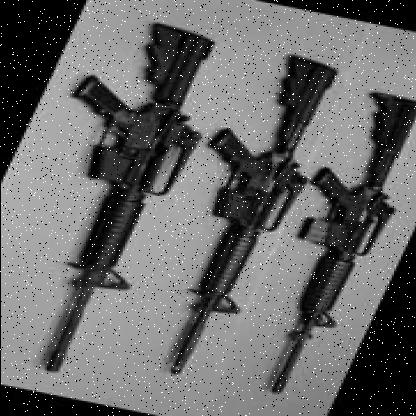rifle: (0, 15, 244, 398), (115, 45, 361, 387), (221, 82, 416, 400)
